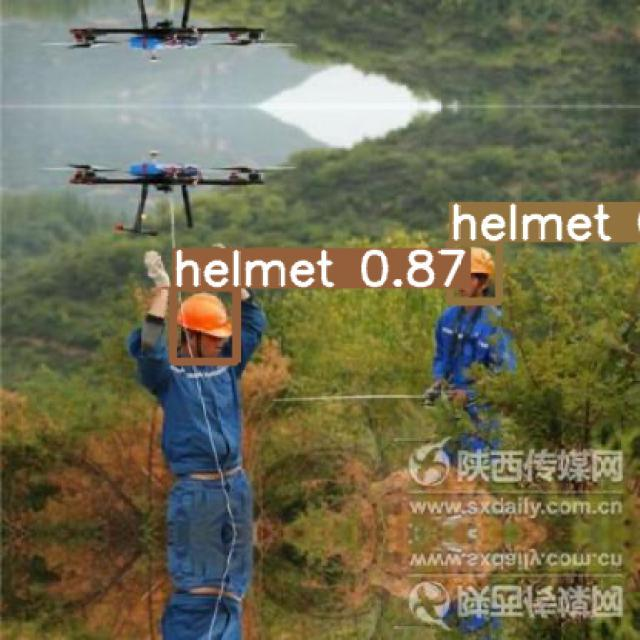Helmet: (175, 292, 232, 339), (469, 246, 494, 275)
